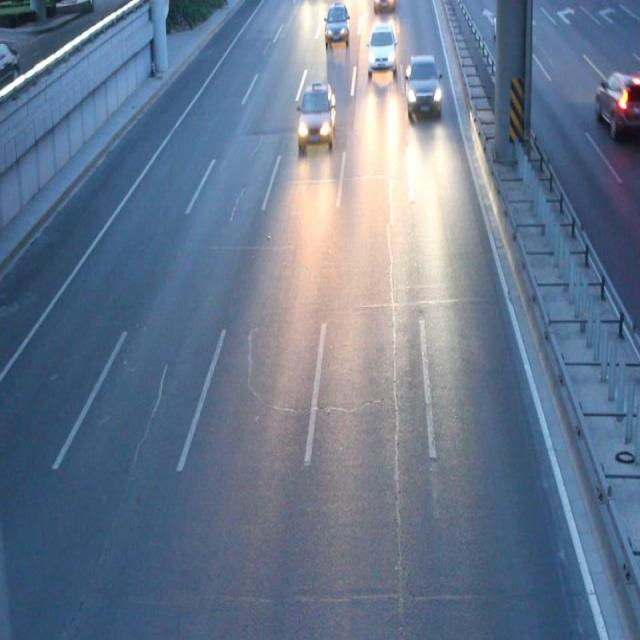car: (297, 82, 335, 150), (403, 55, 441, 118), (366, 27, 396, 80), (324, 2, 349, 48)
